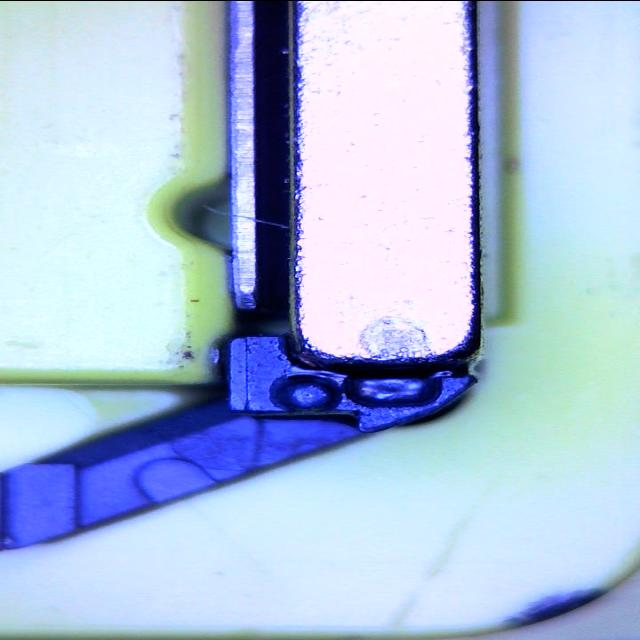over: (342, 370, 444, 406)
